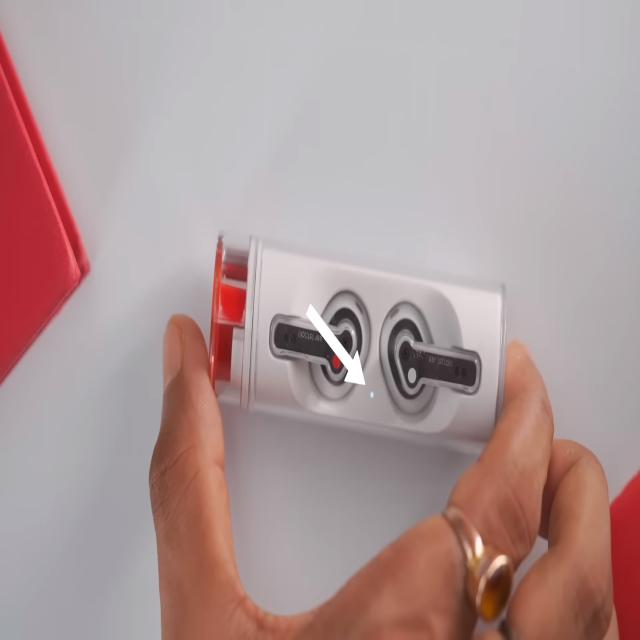airpods: (378, 301, 483, 418)
